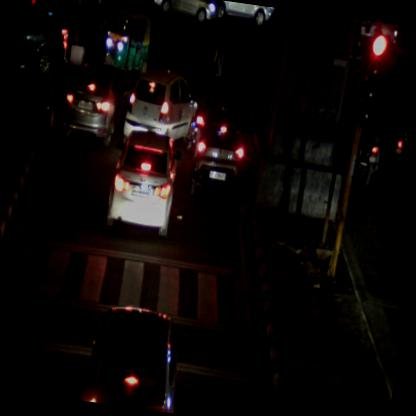car: (78, 301, 194, 413), (100, 128, 184, 239), (119, 63, 204, 156), (60, 58, 134, 150), (188, 106, 249, 204), (16, 0, 74, 85), (204, 0, 274, 29), (150, 0, 220, 27)
motorcycle: (358, 98, 388, 188)
